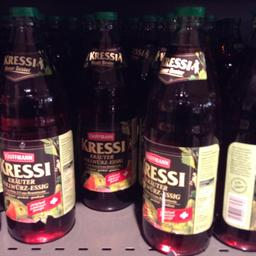vinegar: (140, 6, 228, 254), (0, 5, 77, 248), (73, 10, 138, 212)
